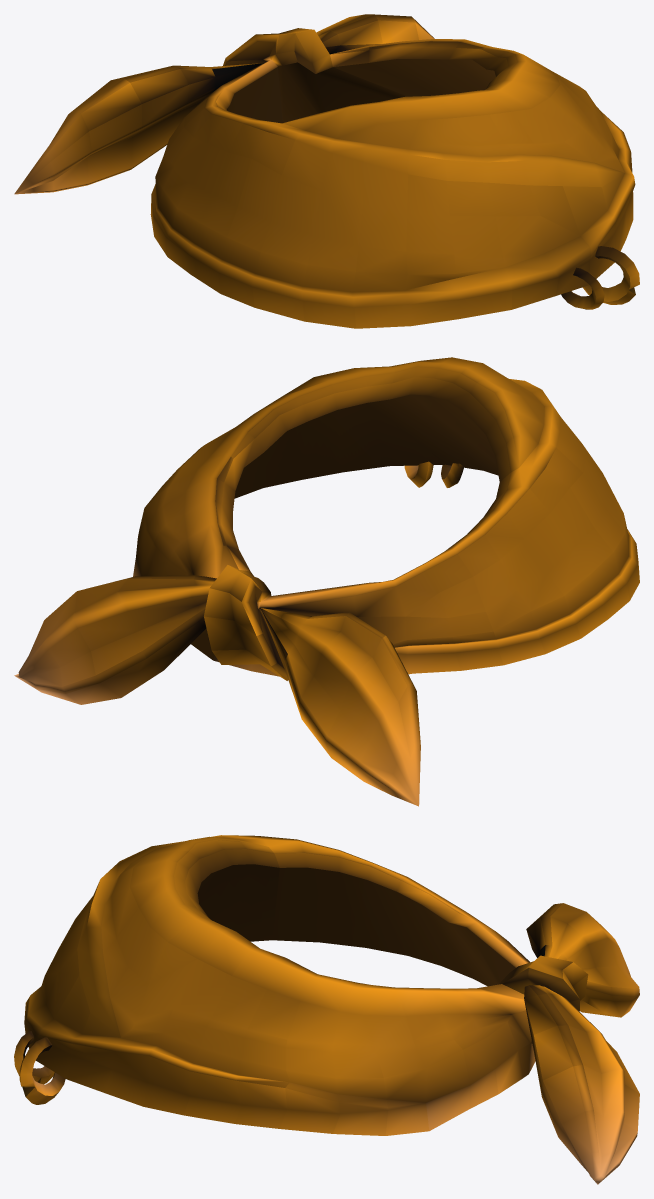
File: Cap_Pirate_Bandana.gltf
The picture shows the model from 3 angles, top to bottom: view 1: azimuth 30°, elevation 25°; view 2: azimuth 150°, elevation 25°; view 3: azimuth 270°, elevation 25°; orthographic projection.
Visible parts, largest first — view 1: Cap_Pirate_Bandana; view 2: Cap_Pirate_Bandana; view 3: Cap_Pirate_Bandana.
Part boxes in pixels (x1,y1,x2,y2): Cap_Pirate_Bandana: [14, 14, 639, 328]; Cap_Pirate_Bandana: [14, 357, 639, 806]; Cap_Pirate_Bandana: [14, 835, 639, 1184].
Bounding box in the file's own units: 0.9512 × 0.4676 × 1.19.
2 materials, 2 textured.
